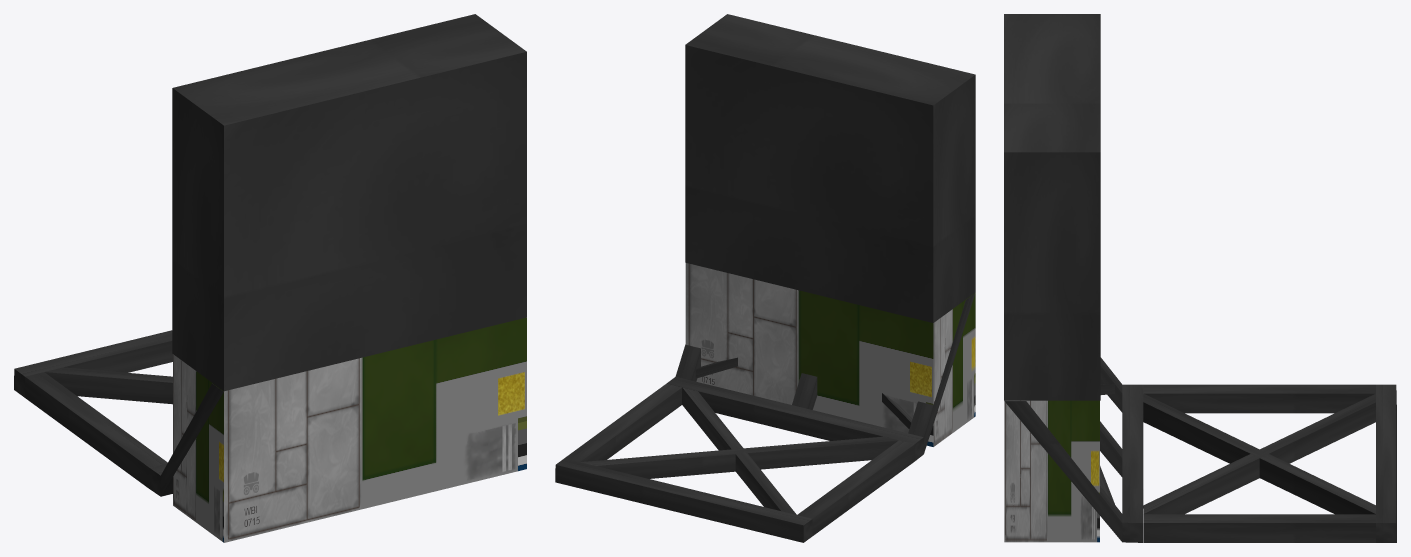
Rendered from OutbackRack.FBX.
The picture shows the model from 3 angles, left to right: view 1: azimuth 30°, elevation 25°; view 2: azimuth 150°, elevation 25°; view 3: azimuth 270°, elevation 25°; orthographic projection. The views are drawn at different scales.
Parts seen in each view (by area): view 1: BackMount001, Box001, RackGirder009, RackGirder010, RackGirder012, RackGirder013; view 2: BackMount001, Box001, RackGirder010, RackGirder011, RackGirder008, RackGirder009, RackGirder007, RackGirder012, RackGirder013, RackGirder015, RackGirder014; view 3: BackMount001, Box001, RackGirder007, RackGirder009, RackGirder011, RackGirder012, RackGirder008, RackGirder010, RackGirder014, RackGirder015, RackGirder013.
Boxes of the visible parts, x1,y1,x2,y2 form: BackMount001: (172,14,526,391); Box001: (173,317,526,542); RackGirder009: (25,372,167,488); RackGirder010: (14,330,172,397); RackGirder012: (44,367,172,404); RackGirder013: (160,383,223,496); BackMount001: (685,14,975,322); Box001: (685,263,975,446); RackGirder010: (555,458,812,542); RackGirder011: (581,436,898,478); RackGirder008: (667,376,923,461); RackGirder009: (797,440,914,535); RackGirder007: (565,383,681,461); RackGirder012: (682,387,796,514); RackGirder013: (908,293,975,453); RackGirder015: (792,373,817,409); RackGirder014: (675,344,700,381); BackMount001: (1004,14,1100,400); Box001: (1004,400,1099,542); RackGirder007: (1143,514,1375,542); RackGirder009: (1143,384,1375,413); RackGirder011: (1143,393,1375,514); RackGirder012: (1143,393,1375,514); RackGirder008: (1122,384,1143,542); RackGirder010: (1376,384,1396,542); RackGirder014: (1004,401,1122,541); RackGirder015: (1100,421,1122,476); RackGirder013: (1100,357,1122,412).
Size of the model in its own units: 0.2263 by 0.2982 by 0.2716.
